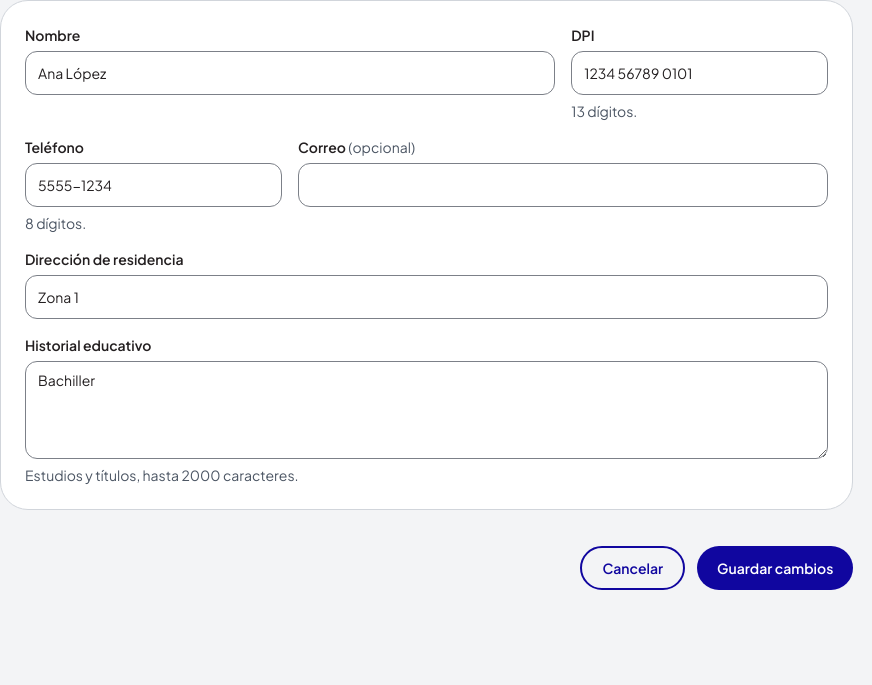
Test: FormularioPiloto › muestra el error del backend tal cual
Click the button "Guardar cambios": {"x": 775, "y": 568} [697,546,853,590]
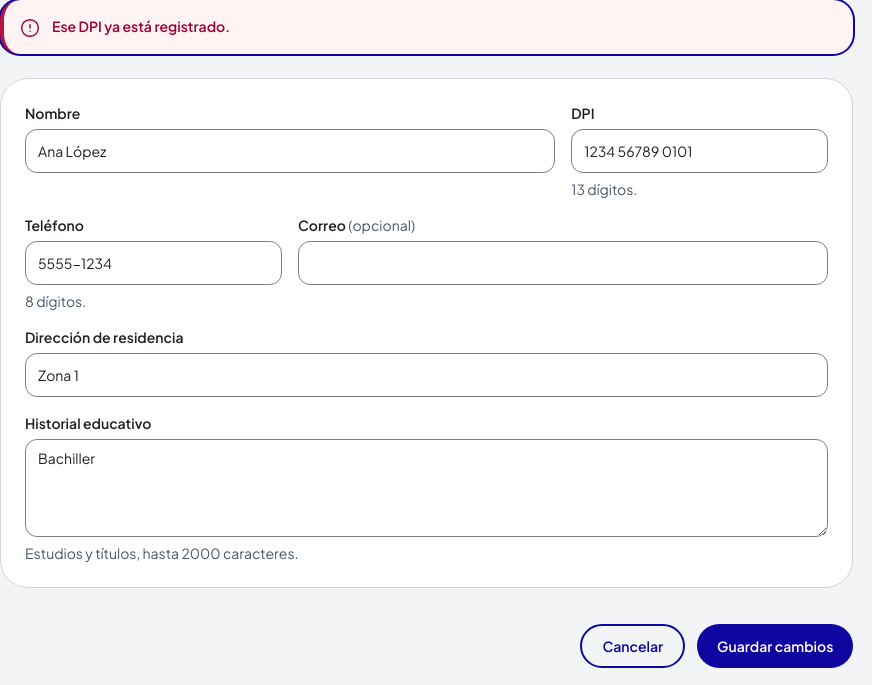
Expected: the message reads "Ese DPI ya está registrado.", [52,17,230,35]
